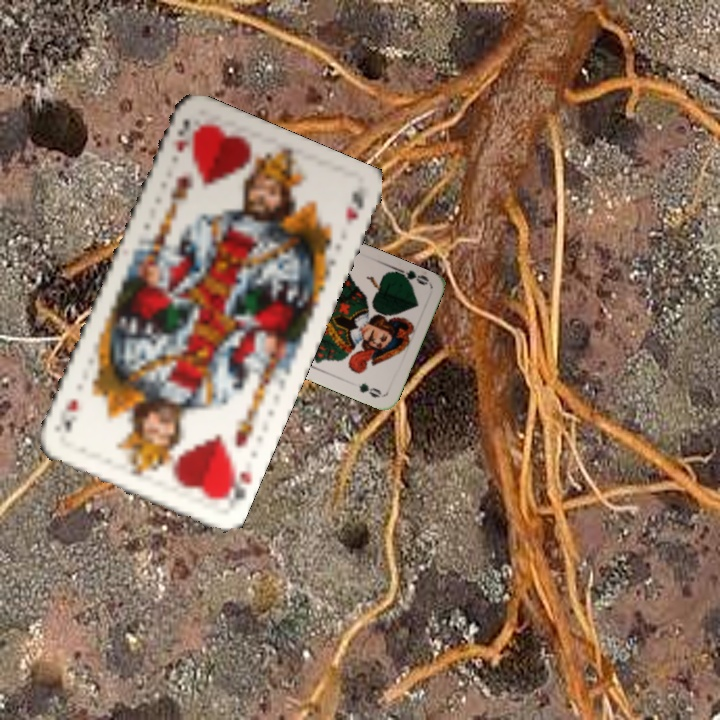GO: (391, 264, 431, 288)
HK: (215, 458, 254, 506), (171, 114, 202, 155)
